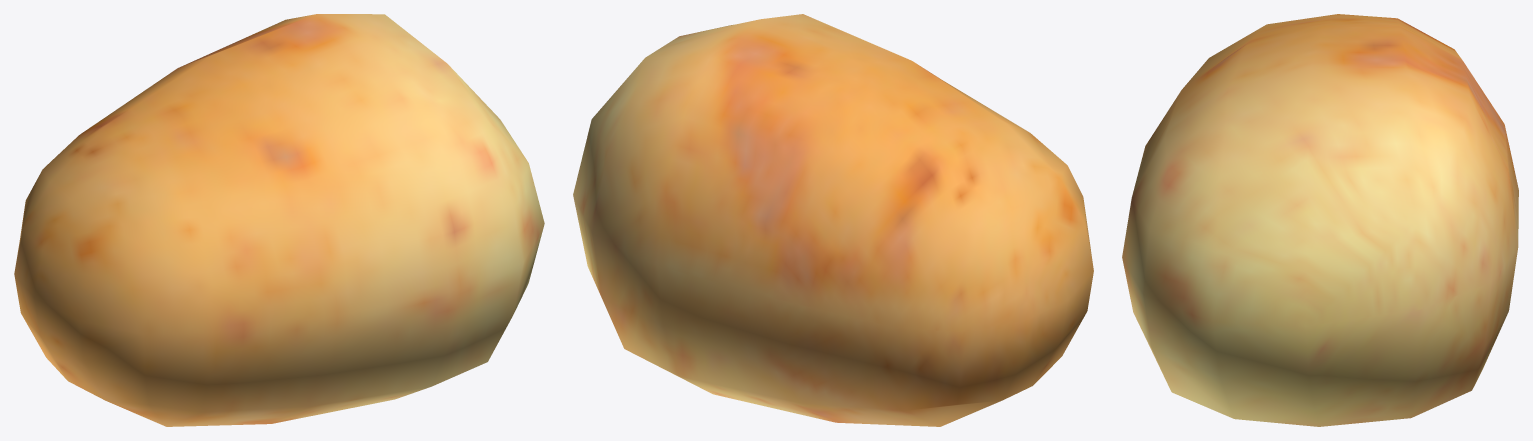
The model's file is Potato.fbx.
The picture shows the model from 3 angles, left to right: view 1: azimuth 30°, elevation 25°; view 2: azimuth 150°, elevation 25°; view 3: azimuth 270°, elevation 25°; orthographic projection. The views are drawn at different scales.
Visible parts, largest first — view 1: Potato; view 2: Potato; view 3: Potato.
Part boxes in pixels (x1,y1,x2,y2): Potato: (14, 14, 544, 426); Potato: (573, 14, 1093, 426); Potato: (1122, 14, 1518, 426).
Bounding box in the file's own units: 16.56 × 11.61 × 11.71.
